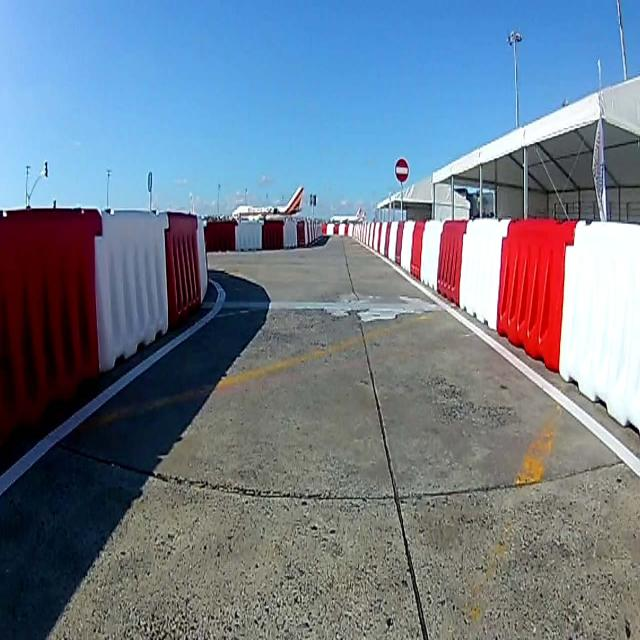girisyok: (394, 156, 411, 185)
